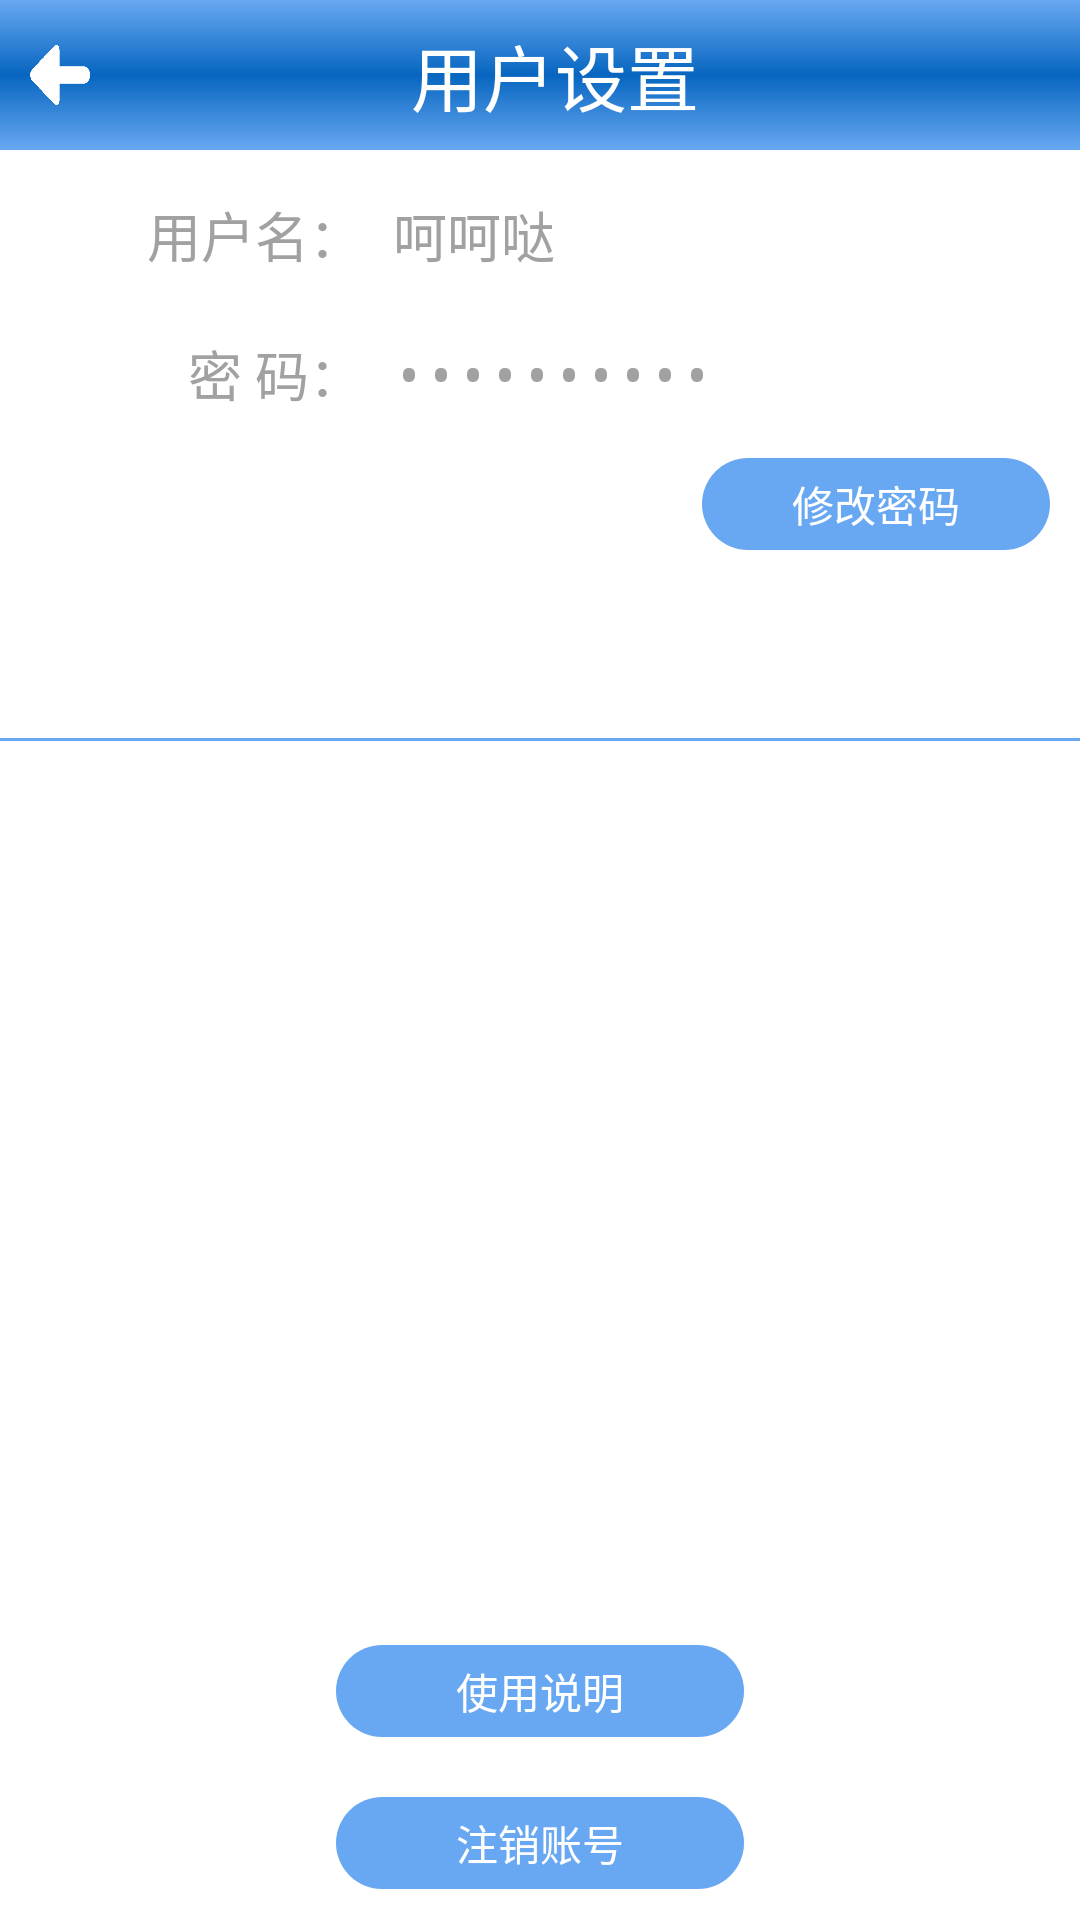

Where to tap for icons on this 1080 × 1920 app screen, as point (x, y):
left arrow: point (60, 75)
